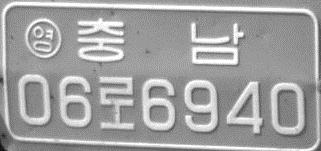0: (269, 81, 306, 136), (16, 73, 53, 127)
4: (226, 80, 263, 134)
6: (58, 74, 92, 129), (141, 77, 175, 131)
9: (182, 78, 220, 134)
로: (98, 74, 136, 131)
영: (23, 17, 62, 60)
충남_D: (73, 16, 244, 66)
